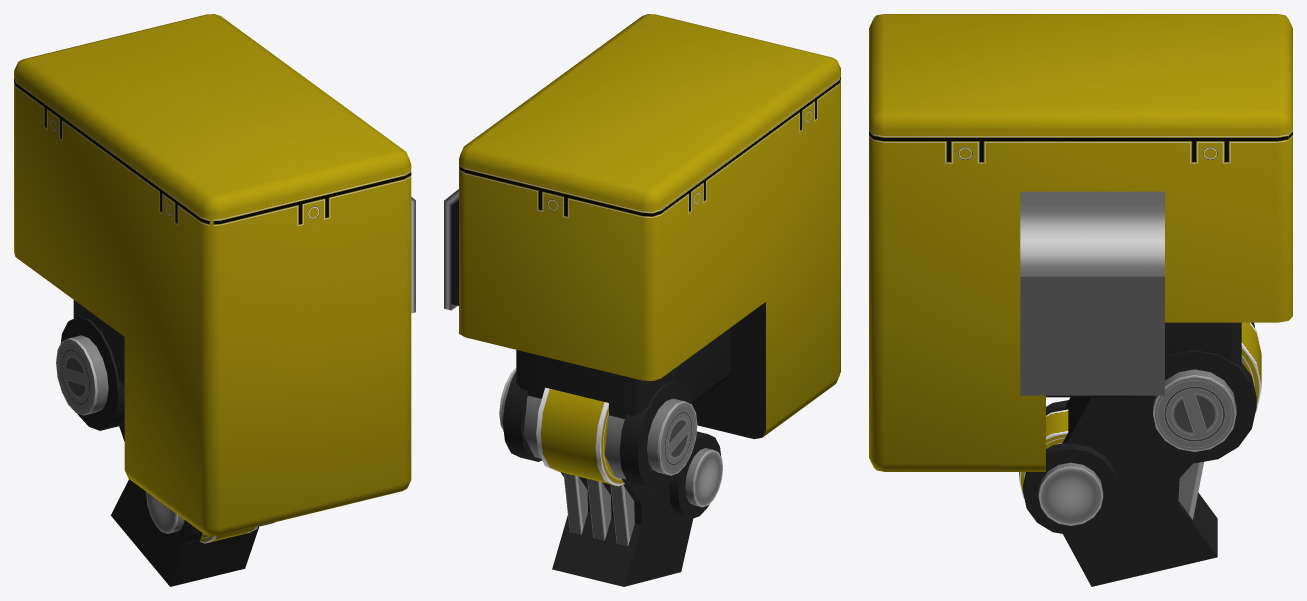
The model's file is head_w.fbx.
3 renders of one model, left to right at view 1: azimuth 30°, elevation 25°; view 2: azimuth 150°, elevation 25°; view 3: azimuth 270°, elevation 25°, orthographic. The views are drawn at different scales.
Parts seen in each view (by area): view 1: HEAD_W; view 2: HEAD_W; view 3: HEAD_W.
Boxes of the visible parts, box(x1,y1,x2,y2) form: HEAD_W: box(14, 14, 415, 586); HEAD_W: box(444, 14, 840, 586); HEAD_W: box(869, 14, 1292, 586).
Bounding box in the file's own units: 16.76 × 27.38 × 20.81.
